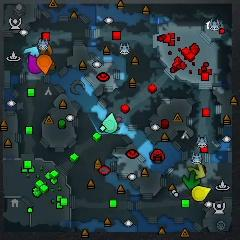p2: (102, 112, 118, 133)
p3: (27, 55, 41, 73)
p4: (192, 186, 212, 201)
p5: (37, 54, 52, 74)
x2: (188, 164, 205, 180)
x3: (23, 46, 39, 58)
x4: (182, 171, 201, 190)
x5: (39, 44, 53, 56)
